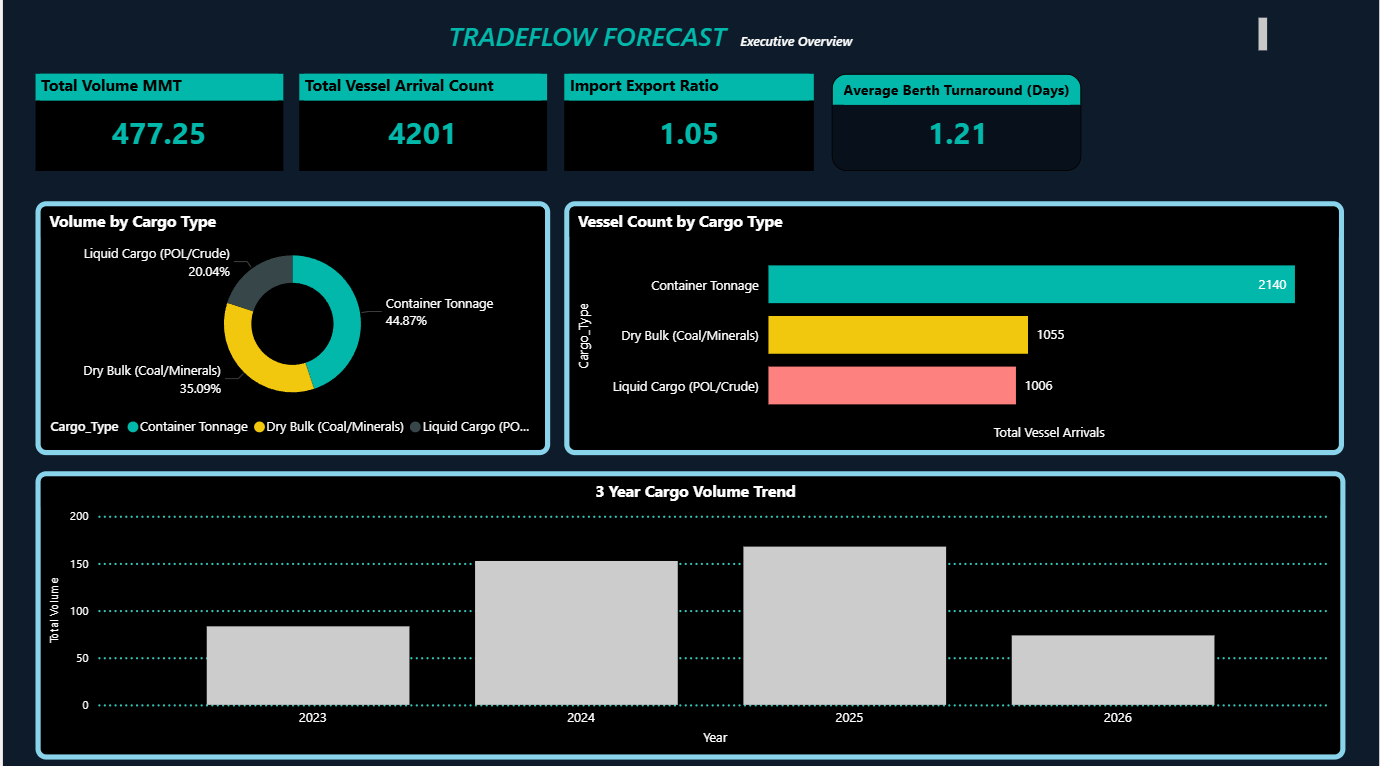

The page's visual inventory and layout, read from the dashboard file:
{"tool":"powerbi","page":{"name":"Strategic Macro Trends","canvas":[1280,720],"ordinal":1},"visuals":[{"type":"actionButton","box":[0,0,100,40],"z":0},{"type":"cardVisual","fields":{"Data":["daily_port_cargo.Total Volume"]},"box":[351.6,18.1,244.2,122.1],"z":1000},{"type":"cardVisual","fields":{"Data":["daily_port_cargo.Total Vessel Arrivals"]},"box":[99.5,20.4,244.2,119.8],"z":2000},{"type":"cardVisual","fields":{"Data":["daily_port_cargo.Avg Turnaround Days"]},"box":[604.9,18.1,244.2,121],"z":3000},{"type":"cardVisual","fields":{"Data":["daily_port_cargo.Import Export Ratio"]},"box":[858.2,18.1,244.2,119.8],"z":4000},{"type":"clusteredColumnChart","title":"Total Vessel Arrivals by Cargo Type","fields":{"Category":["daily_port_cargo.Cargo_Type"],"Y":["daily_port_cargo.Total Vessel Arrivals"]},"box":[780,181.2,485,295],"z":5000},{"type":"lineChart","title":"Total Volume by Month and Year","fields":{"Y":["daily_port_cargo.Total Volume"],"Series":["daily_port_cargo.Year"],"Category":["daily_port_cargo.Full_Month_Name"]},"box":[11.2,163.8,752.5,538.8],"z":6000},{"type":"textbox","box":[797.5,537.5,467.5,165],"z":7000}]}

Visuals, with their boxes in screenshot pixels (x1, y1, x2, y2), scaled from the page's 1280x720 canvas onto the 1380x766 screenshot:
actionButton: l=0, t=0, r=108, b=43
cardVisual - daily_port_cargo.Total Volume: l=379, t=19, r=642, b=149
cardVisual - daily_port_cargo.Total Vessel Arrivals: l=107, t=22, r=371, b=149
cardVisual - daily_port_cargo.Avg Turnaround Days: l=652, t=19, r=915, b=148
cardVisual - daily_port_cargo.Import Export Ratio: l=925, t=19, r=1189, b=147
"Total Vessel Arrivals by Cargo Type" clusteredColumnChart: l=841, t=193, r=1364, b=507
"Total Volume by Month and Year" lineChart: l=12, t=174, r=823, b=747
textbox: l=860, t=572, r=1364, b=747
